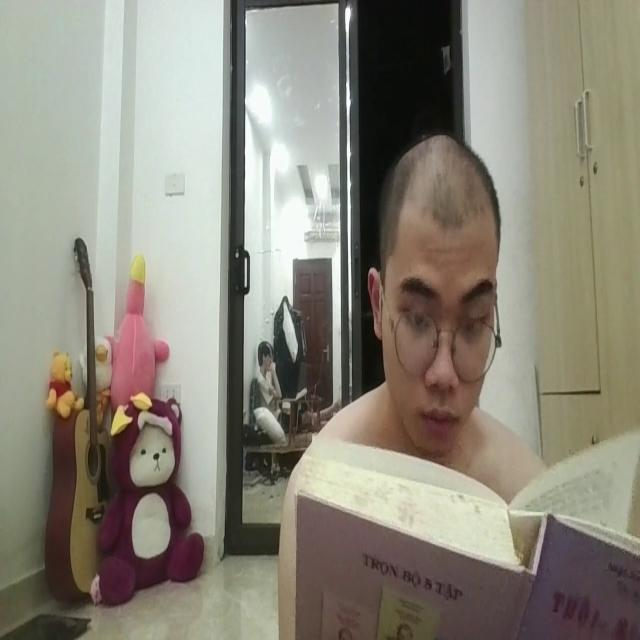book: (287, 428, 640, 639)
extra_person: (255, 327, 286, 417)
student: (356, 124, 508, 468)
